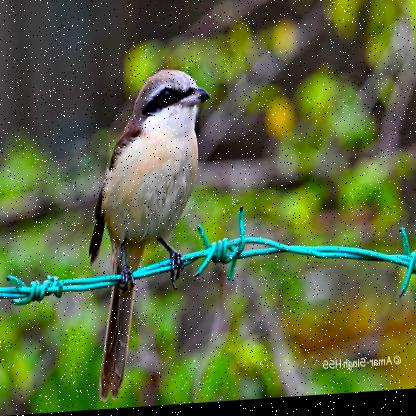Burung: (85, 67, 214, 403)
